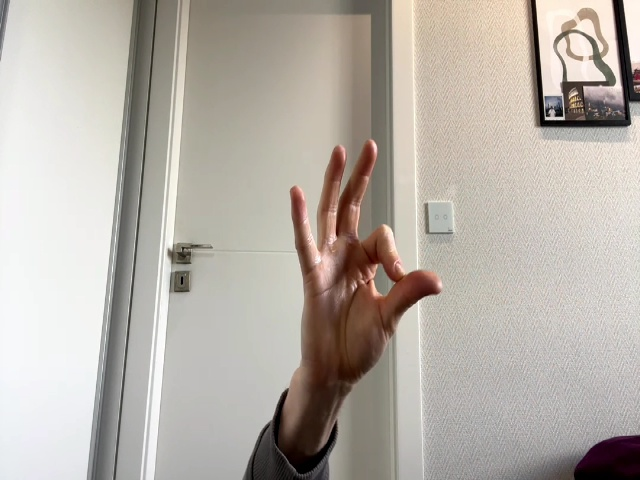S: (288, 138, 443, 366)
